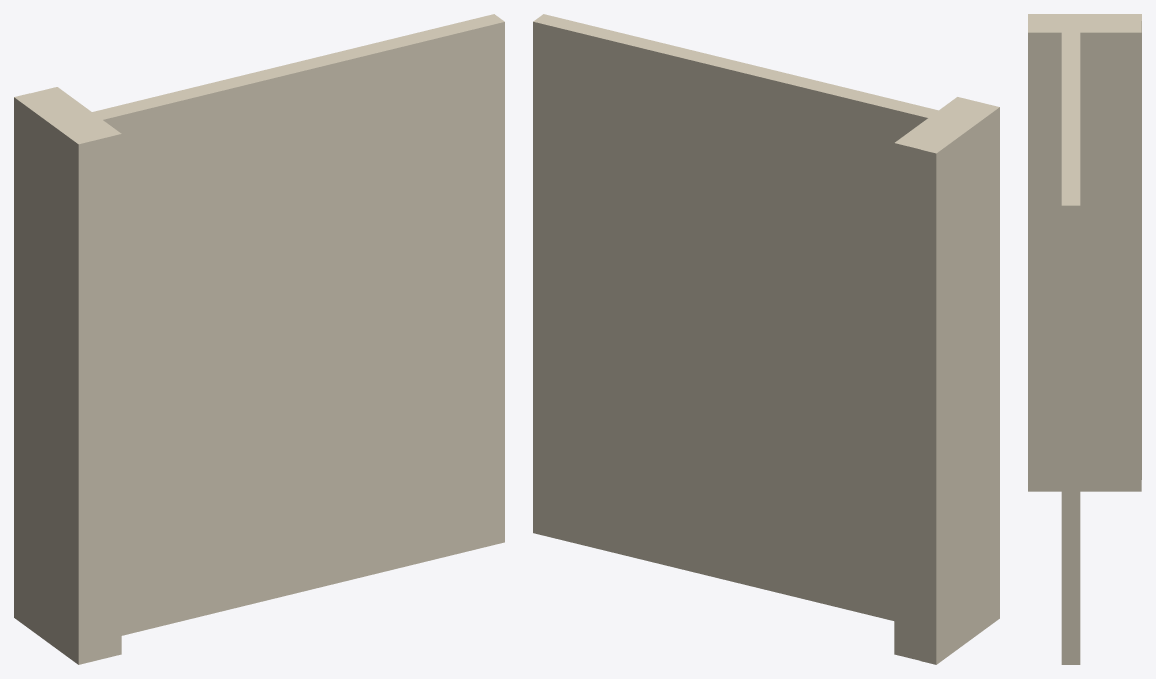
3 renders of one model, left to right at view 1: azimuth 30°, elevation 25°; view 2: azimuth 150°, elevation 25°; view 3: azimuth 270°, elevation 25°, orthographic. The views are drawn at different scales.
Parts seen in each view (by area): view 1: B-GF-WALL-003; view 2: B-GF-WALL-003; view 3: B-GF-WALL-003.
Boxes of the visible parts, bbox=[...] form: B-GF-WALL-003: bbox=[14, 14, 504, 664]; B-GF-WALL-003: bbox=[533, 14, 999, 664]; B-GF-WALL-003: bbox=[1028, 14, 1141, 664].
Size of the model in its own units: 2.17 by 2.42 by 0.544.
